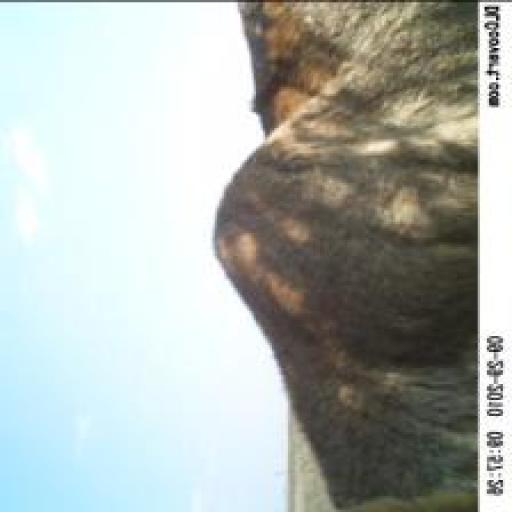lion: (267, 5, 462, 489)
